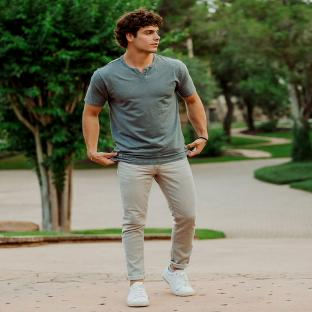Human: (83, 8, 209, 307)
